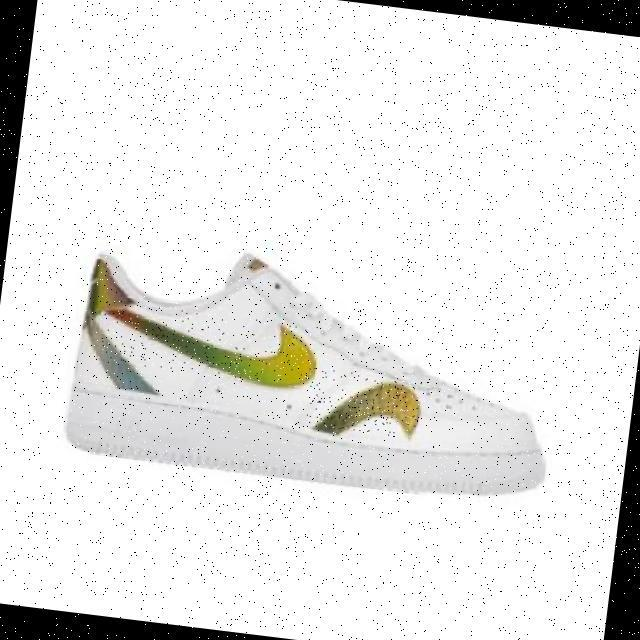Nike: (96, 301, 319, 389), (305, 368, 421, 438)
